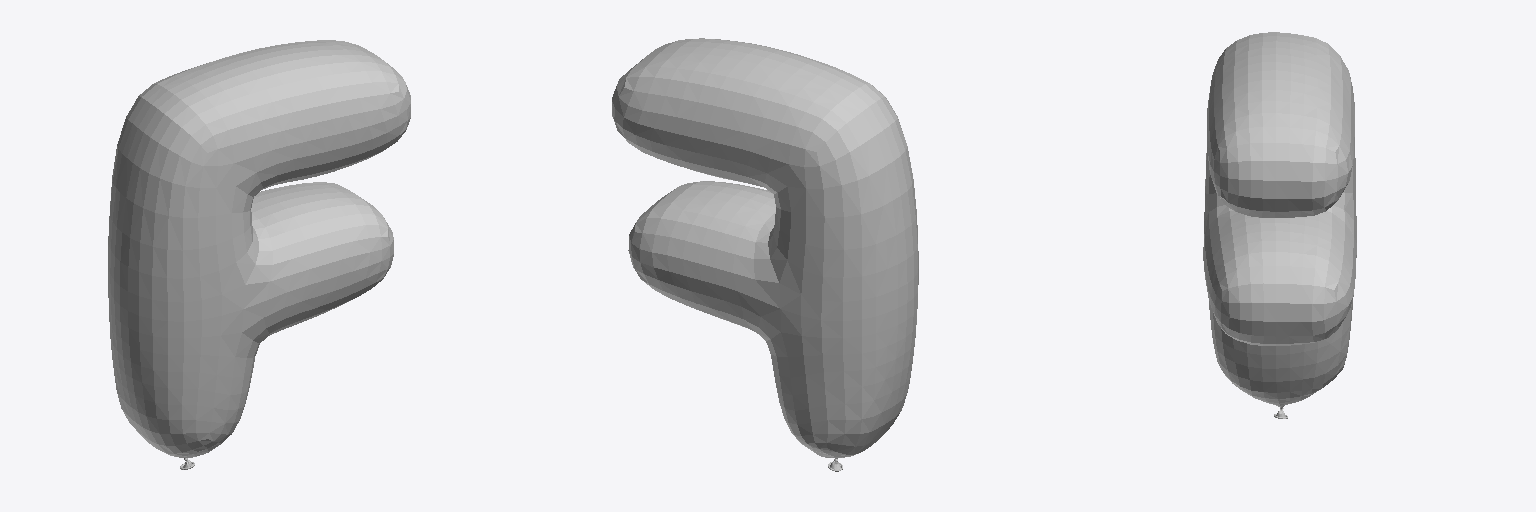
Rendered from balloonf.obj.
The picture shows the model from 3 angles: view 1: azimuth 30°, elevation 25°; view 2: azimuth 150°, elevation 25°; view 3: azimuth 270°, elevation 25°; orthographic projection.
Visible parts, largest first — view 1: Balloon_Alphabet_Subdivision_F; view 2: Balloon_Alphabet_Subdivision_F; view 3: Balloon_Alphabet_Subdivision_F.
Part boxes in pixels (x1,y1,x2,y2): Balloon_Alphabet_Subdivision_F: (108, 40, 410, 469); Balloon_Alphabet_Subdivision_F: (612, 38, 918, 471); Balloon_Alphabet_Subdivision_F: (1203, 32, 1356, 418).
Bounding box in the file's own units: 37.22 × 50.59 × 17.97.